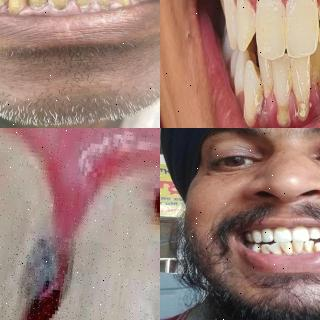Gum Swelling: (10, 128, 154, 231), (0, 1, 119, 14), (261, 86, 275, 128), (304, 84, 320, 116), (273, 0, 294, 10), (128, 0, 150, 4)
calculus: (138, 180, 160, 310), (274, 104, 290, 128), (72, 0, 97, 12), (5, 0, 26, 14), (47, 0, 70, 11), (29, 0, 49, 12), (91, 0, 115, 9), (0, 0, 9, 11)
cavities: (0, 232, 96, 319), (124, 170, 160, 276)
maligned: (237, 48, 260, 128), (236, 0, 258, 60), (306, 30, 320, 90), (279, 241, 293, 255), (267, 241, 281, 254), (292, 241, 304, 253), (260, 243, 271, 254), (303, 240, 315, 250), (312, 241, 320, 253)
plaque: (8, 152, 62, 285)
stains: (310, 246, 319, 254), (256, 244, 263, 253), (289, 244, 295, 254), (279, 247, 286, 254), (302, 244, 308, 252), (268, 249, 274, 255), (259, 232, 263, 239), (307, 232, 311, 236), (318, 230, 320, 235)
